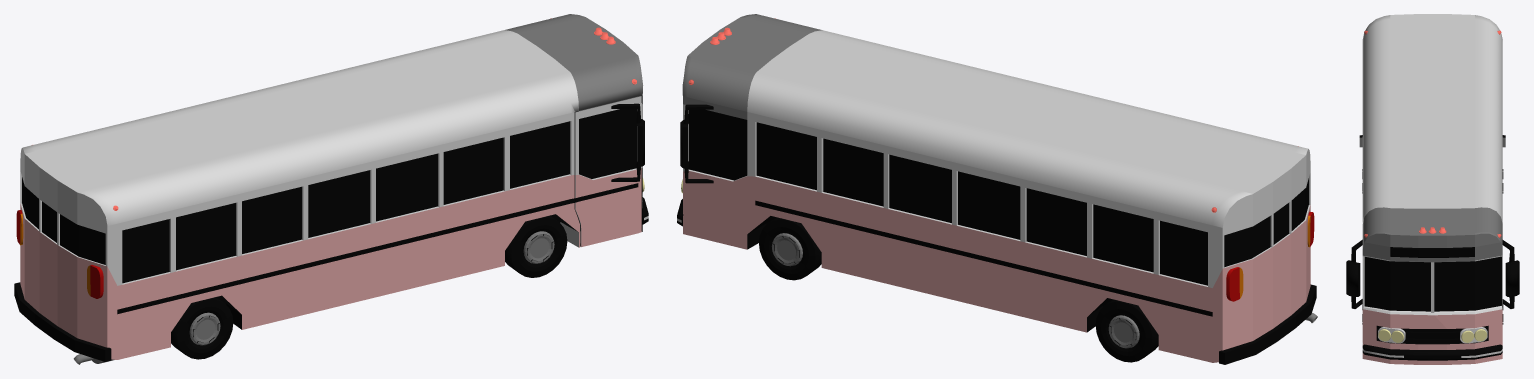
Rendered from PershogubaBus.fbx.
The picture shows the model from 3 angles, left to right: view 1: azimuth 30°, elevation 25°; view 2: azimuth 150°, elevation 25°; view 3: azimuth 270°, elevation 25°; orthographic projection. The views are drawn at different scales.
Visible parts, largest first — view 1: Cube; view 2: Cube; view 3: Cube.
Part boxes in pixels (bbox=[...]): Cube: bbox=[14, 14, 648, 364]; Cube: bbox=[677, 14, 1317, 364]; Cube: bbox=[1346, 14, 1519, 364].
Bounding box in the file's own units: 1864 × 577 × 605.
